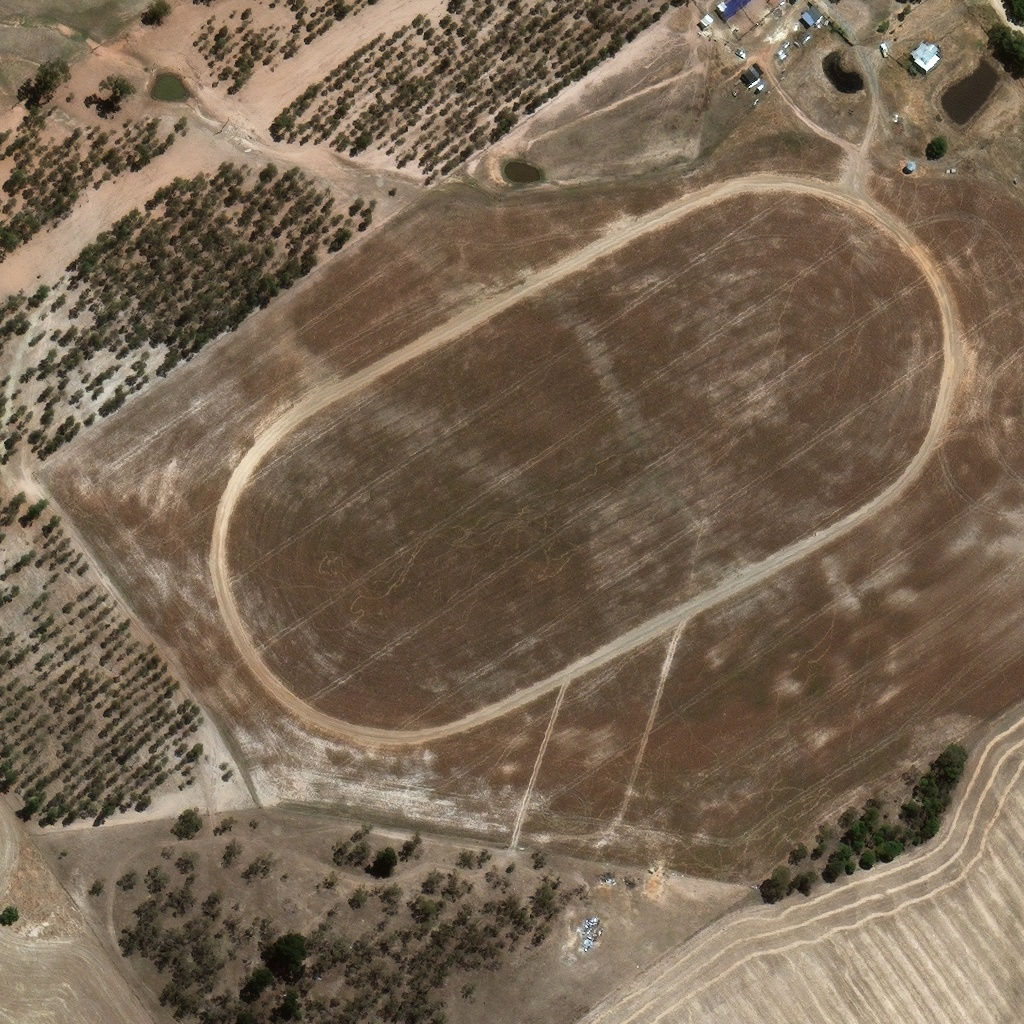0 no-damage: (915, 49, 946, 80), (746, 70, 771, 96), (805, 12, 832, 36), (704, 21, 719, 36), (909, 169, 921, 180), (721, 9, 732, 19), (952, 175, 963, 182)
4 un-classified: (712, 33, 719, 39)
